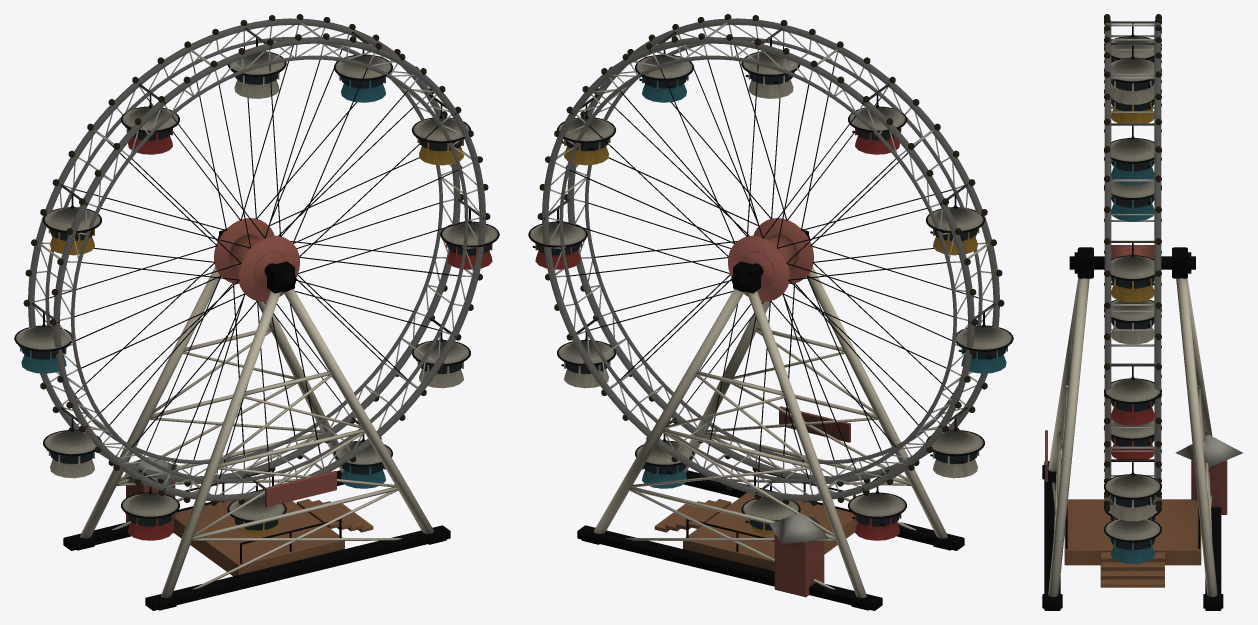
The model's file is wheel-realistic.glb.
3 views of the same model, side by side, from view 1: azimuth 30°, elevation 25°; view 2: azimuth 150°, elevation 25°; view 3: azimuth 270°, elevation 25° (orthographic).
Parts seen in each view (by area): view 1: Wheel_Rotor, Wheel_Frame, Cab8, Cab7, Cab2, Cab6, Cab1, Cab3, Cab0, Cab5, Cab4, Cab11 (+2 smaller); view 2: Wheel_Rotor, Wheel_Frame, Cab8, Cab7, Cab2, Cab6, Cab1, Cab3, Cab5, Cab0, Cab4, Cab11 (+2 smaller); view 3: Wheel_Frame, Wheel_Rotor, Cab11, Cab0, Cab1, Cab2, Cab10, Cab3, Cab7, Cab6, Cab8, Cab4 (+1 smaller).
Part boxes in pixels (bbox=[...]): Wheel_Rotor: bbox=[23, 14, 490, 505]; Wheel_Frame: bbox=[63, 229, 450, 610]; Cab8: bbox=[121, 469, 179, 540]; Cab7: bbox=[43, 407, 101, 478]; Cab2: bbox=[334, 31, 392, 102]; Cab6: bbox=[14, 303, 71, 373]; Cab1: bbox=[411, 94, 470, 165]; Cab3: bbox=[227, 27, 286, 98]; Cab0: bbox=[440, 199, 499, 269]; Cab5: bbox=[43, 184, 101, 255]; Cab4: bbox=[121, 83, 179, 154]; Cab11: bbox=[412, 317, 470, 388]; Wheel_Rotor: bbox=[537, 14, 1004, 505]; Wheel_Frame: bbox=[577, 229, 964, 610]; Cab8: bbox=[848, 469, 906, 540]; Cab7: bbox=[926, 407, 984, 478]; Cab2: bbox=[635, 31, 693, 102]; Cab6: bbox=[956, 303, 1013, 373]; Cab1: bbox=[557, 94, 616, 165]; Cab3: bbox=[741, 27, 800, 98]; Cab5: bbox=[926, 184, 984, 255]; Cab0: bbox=[528, 199, 587, 269]; Cab4: bbox=[848, 83, 906, 154]; Cab11: bbox=[557, 317, 615, 388]; Wheel_Frame: bbox=[1042, 247, 1242, 610]; Wheel_Rotor: bbox=[1104, 14, 1161, 511]; Cab11: bbox=[1104, 459, 1161, 521]; Cab0: bbox=[1104, 363, 1161, 425]; Cab1: bbox=[1104, 241, 1161, 302]; Cab2: bbox=[1104, 123, 1161, 184]; Cab10: bbox=[1103, 502, 1161, 563]; Cab3: bbox=[1104, 43, 1161, 104]; Cab7: bbox=[1104, 282, 1161, 344]; Cab6: bbox=[1104, 178, 1161, 221]; Cab8: bbox=[1103, 419, 1161, 459]; Cab4: bbox=[1104, 21, 1161, 61].
Size of the model in its own units: 13.45 by 13.85 by 5.
6 materials, 6 textured.
